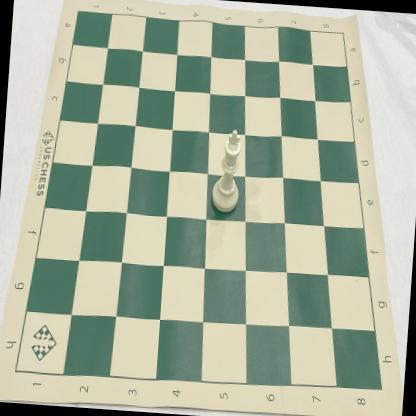king: (210, 128, 244, 214)
